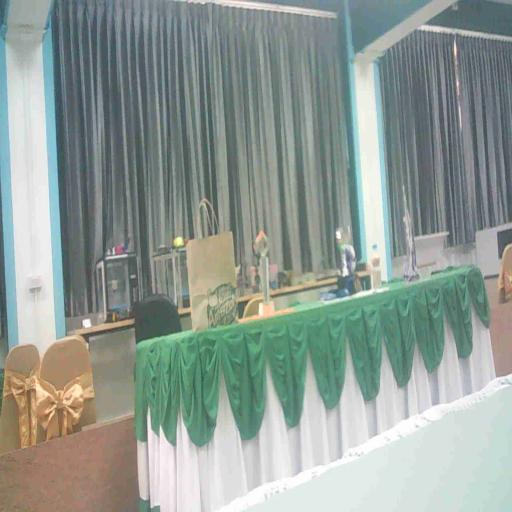bag: (180, 228, 244, 337)
